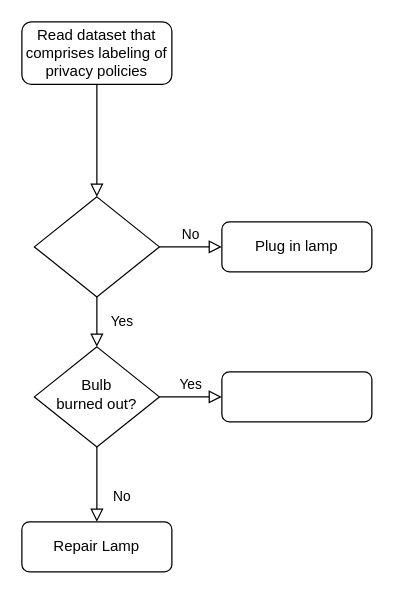
This 394x594 diagram has some shape labels left out. The centre of each missing label's shape, as x and y in pixels:
"Lamp plugged in?" goes at [96,246].
"Replace Bulb" goes at [296,396].
